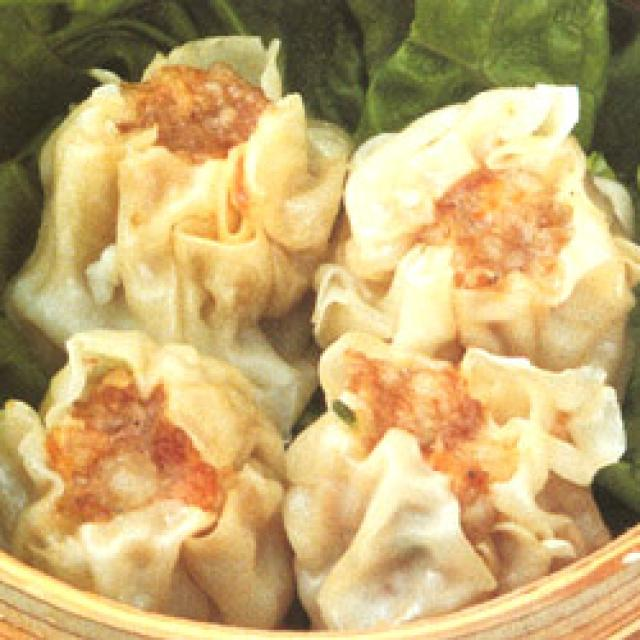带馅早点: (0, 18, 640, 640)
